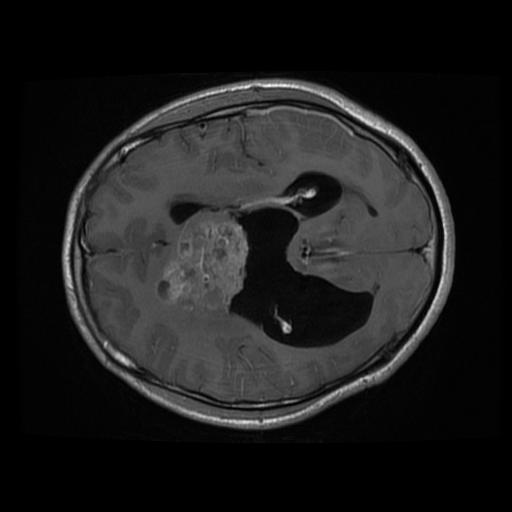glioma: (155, 208, 250, 318)
